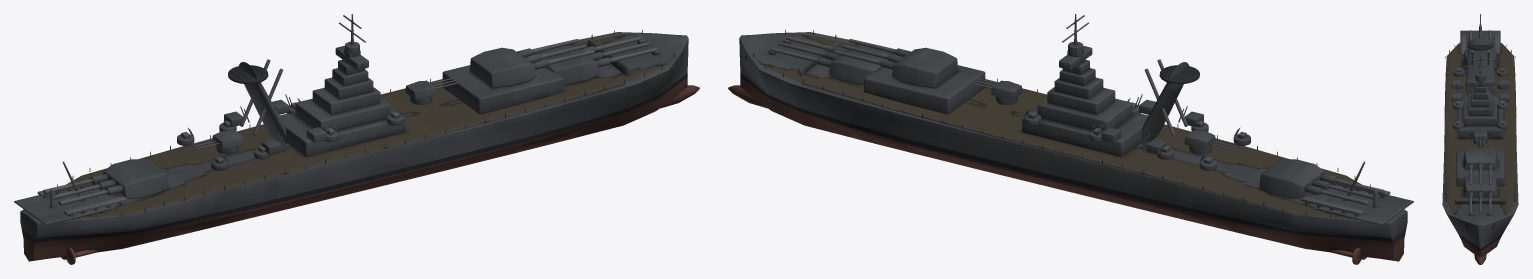
The model's file is yamato.glb.
3 renders of one model, left to right at view 1: azimuth 30°, elevation 25°; view 2: azimuth 150°, elevation 25°; view 3: azimuth 270°, elevation 25°, orthographic. The views are drawn at different scales.
Visible parts, largest first — view 1: hull, deck, pagoda, turret_b, turret_c, aa, catapult, turret_a, funnel, secondary; view 2: hull, deck, pagoda, turret_b, turret_c, aa, catapult, turret_a, funnel, secondary; view 3: deck, hull, pagoda, turret_b, funnel, aa, turret_a, catapult, turret_c, rangefinder, secondary.
Part boxes in pixels (x1,y1,x2,y2): hull: (20,32,699,264); deck: (57,30,682,219); pagoda: (279,14,405,157); turret_b: (442,39,594,114); turret_c: (43,158,168,205); aa: (177,94,403,170); catapult: (14,161,126,225); turret_a: (538,36,657,84); funnel: (228,59,286,142); secondary: (190,78,457,154); hull: (728,32,1407,264); deck: (745,30,1370,219); pagoda: (1022,14,1148,157); turret_b: (833,39,985,114); turret_c: (1259,158,1384,205); aa: (1024,94,1250,170); catapult: (1301,161,1413,225); turret_a: (770,36,889,84); funnel: (1141,59,1199,142); secondary: (970,78,1237,154); deck: (1444,38,1516,228); hull: (1442,42,1518,264); pagoda: (1458,54,1502,139); turret_b: (1456,147,1504,186); funnel: (1465,38,1495,94); aa: (1451,67,1509,129); turret_a: (1463,175,1497,212); catapult: (1460,14,1500,55); turret_c: (1463,30,1497,69); rangefinder: (1466,78,1494,86); secondary: (1473,129,1487,145).
Size of the model in its own units: 268 by 64.76 by 41.22.
